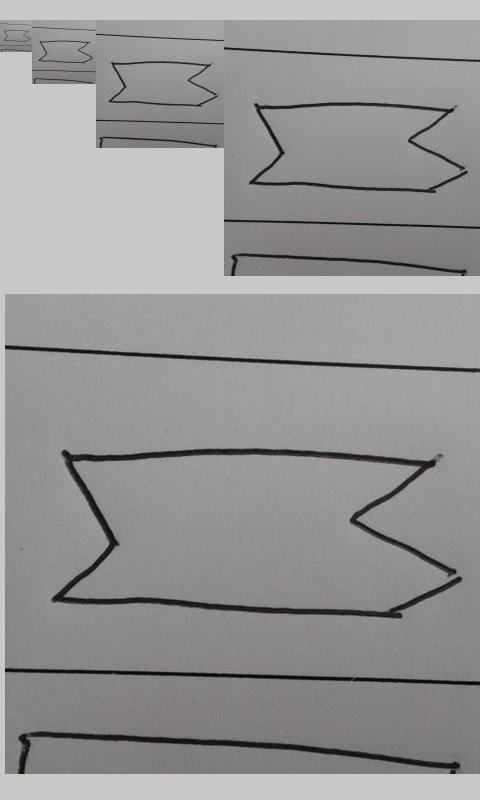edit_text: (52, 445, 459, 620), (248, 103, 469, 194), (107, 60, 219, 107), (38, 39, 94, 64), (3, 30, 31, 42)
